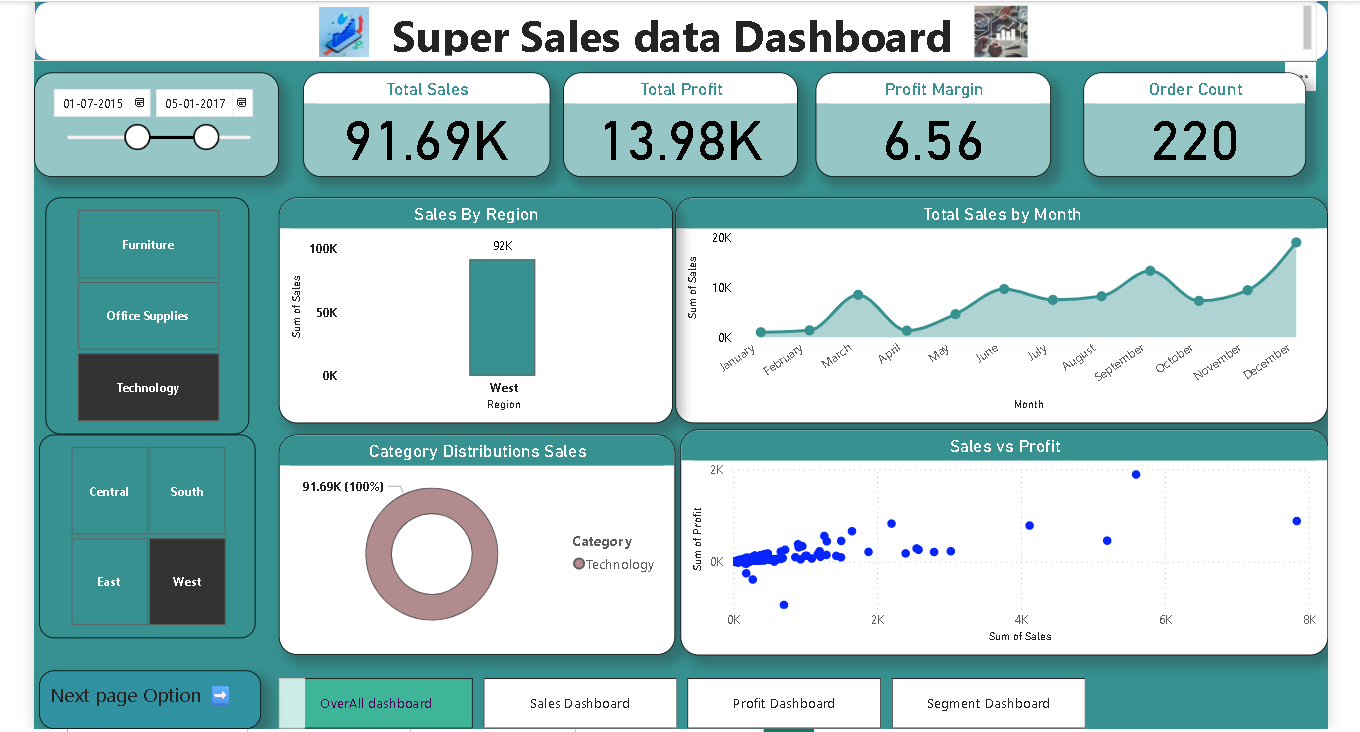

The dashboard page shown, as its layout file describes it:
{"tool":"powerbi","page":{"name":"OverAll dashboard","canvas":[1280,720],"ordinal":0},"visuals":[{"type":"shape","box":[0,0,1280.1,59.3],"z":0},{"type":"textbox","box":[0,0,1268.8,59.3],"z":1000},{"type":"card","title":"Total Sales","fields":{"Values":["final_data.Total Sales"]},"box":[266.1,70.6,244.7,103.4],"z":2000},{"type":"card","title":"Total Profit","fields":{"Values":["final_data.Total Profit"]},"box":[523.4,70.6,232.1,103.4],"z":3000},{"type":"card","title":"Profit Margin","fields":{"Values":["final_data.Profit Margin"]},"box":[773.1,70.6,233.3,103.4],"z":4000},{"type":"card","title":"Order Count","fields":{"Values":["final_data.order_count"]},"box":[1038,70.6,220.7,103.4],"z":5000},{"type":"lineChart","title":"Total Sales by Month","fields":{"Category":["final_data.Order Date.Variation.Date Hierarchy.Month"],"Y":["Sum(final_data.Sales)"]},"box":[634.4,194.2,645.7,223.2],"z":6000},{"type":"columnChart","title":"Sales By Region","fields":{"Category":["final_data.Region"],"Y":["Sum(final_data.Sales)"]},"box":[242.1,194.2,389.7,223.2],"z":7000},{"type":"donutChart","title":"Category Distributions Sales","fields":{"Category":["final_data.Category"],"Y":["Sum(final_data.Sales)"]},"box":[242.1,428.8,392.2,218.2],"z":8000},{"type":"scatterChart","title":"Sales vs Profit ","fields":{"X":["Sum(final_data.Sales)"],"Category":["final_data.Product Name"],"Y":["Sum(final_data.Profit)"]},"box":[639.4,423.8,640.7,223.2],"z":9000},{"type":"slicer","title":"Date slicer","fields":{"Values":["final_data.Order Date"]},"box":[0,70.6,242.1,103.4],"z":10000},{"type":"slicer","title":"Category Slicer","fields":{"Values":["final_data.Category"]},"box":[11.4,194.2,201.8,234.6],"z":11000},{"type":"slicer","title":"Region Slicer","fields":{"Values":["final_data.Region"]},"box":[5,428.8,214.4,201.8],"z":12000},{"type":"pageNavigator","box":[242.1,669.7,1000.1,50.4],"z":13000},{"type":"textbox","box":[5,662.1,219.4,58],"z":14000},{"type":"image","box":[274.9,1.3,63.1,59.3],"z":15000},{"type":"image","box":[923.2,0,66.8,60.5],"z":16000}]}

Visuals, with their boxes on the page's 1280x720 design canvas (x1, y1, x2, y2). These are canvas units, not pixel positions in the 1360x732 screenshot, which may show the page scaled, cropped or inside an application window:
shape: crop(0, 0, 1280, 59)
textbox: crop(0, 0, 1269, 59)
"Total Sales" card: crop(266, 71, 511, 174)
"Total Profit" card: crop(523, 71, 756, 174)
"Profit Margin" card: crop(773, 71, 1006, 174)
"Order Count" card: crop(1038, 71, 1259, 174)
"Total Sales by Month" lineChart: crop(634, 194, 1280, 417)
"Sales By Region" columnChart: crop(242, 194, 632, 417)
"Category Distributions Sales" donutChart: crop(242, 429, 634, 647)
"Sales vs Profit " scatterChart: crop(639, 424, 1280, 647)
"Date slicer" slicer: crop(0, 71, 242, 174)
"Category Slicer" slicer: crop(11, 194, 213, 429)
"Region Slicer" slicer: crop(5, 429, 219, 631)
pageNavigator: crop(242, 670, 1242, 720)
textbox: crop(5, 662, 224, 720)
image: crop(275, 1, 338, 61)
image: crop(923, 0, 990, 60)
